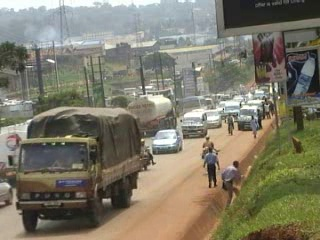Car: (150, 124, 182, 155), (0, 168, 16, 207), (201, 107, 222, 129)
Motorcycle: (138, 136, 157, 172)
